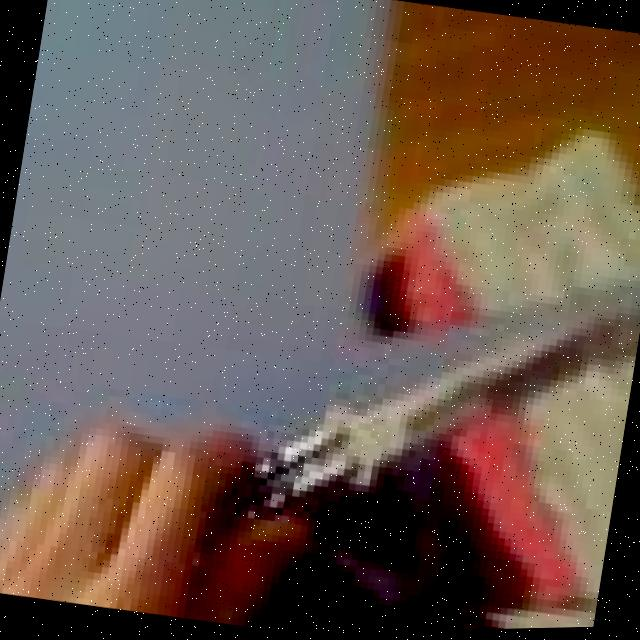knife: (201, 228, 640, 601)
